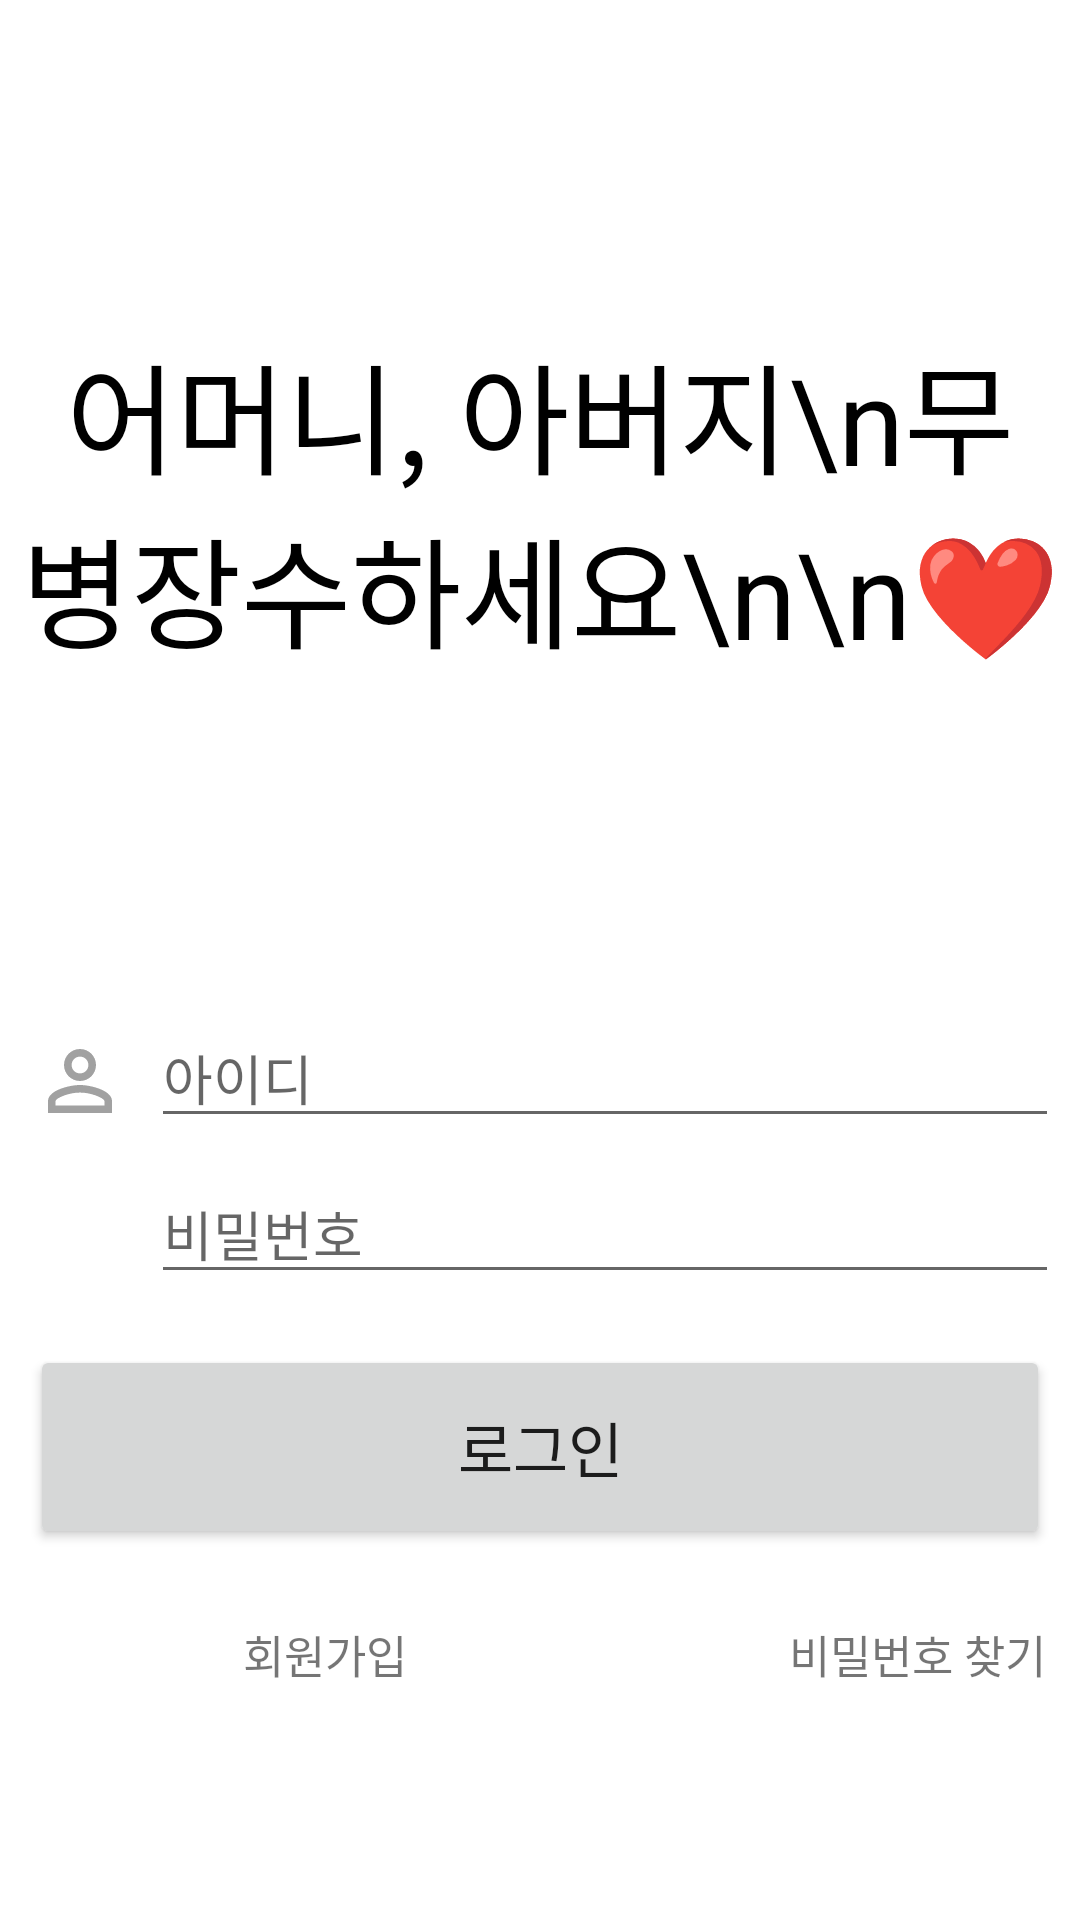

Named icons in this screenshot (1080x1920) and their bounding boxes, (x1, y1, x2, y2):
perm identity: (48, 1049, 112, 1113)
